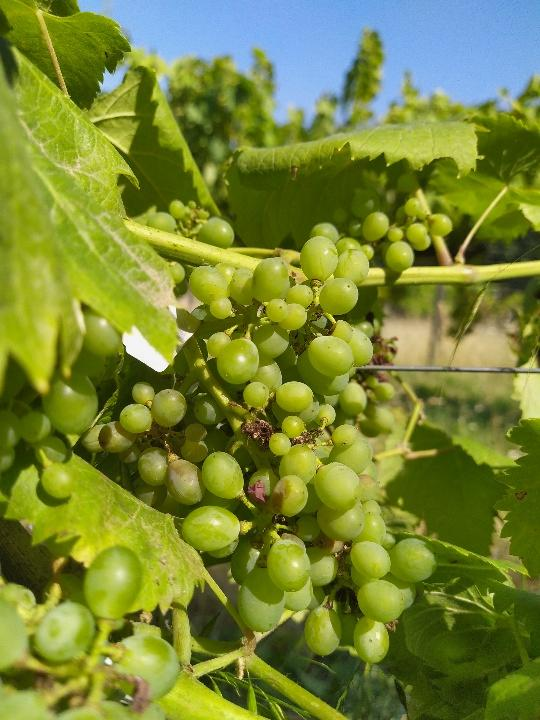grape: (83, 233, 439, 673), (333, 163, 457, 272)
